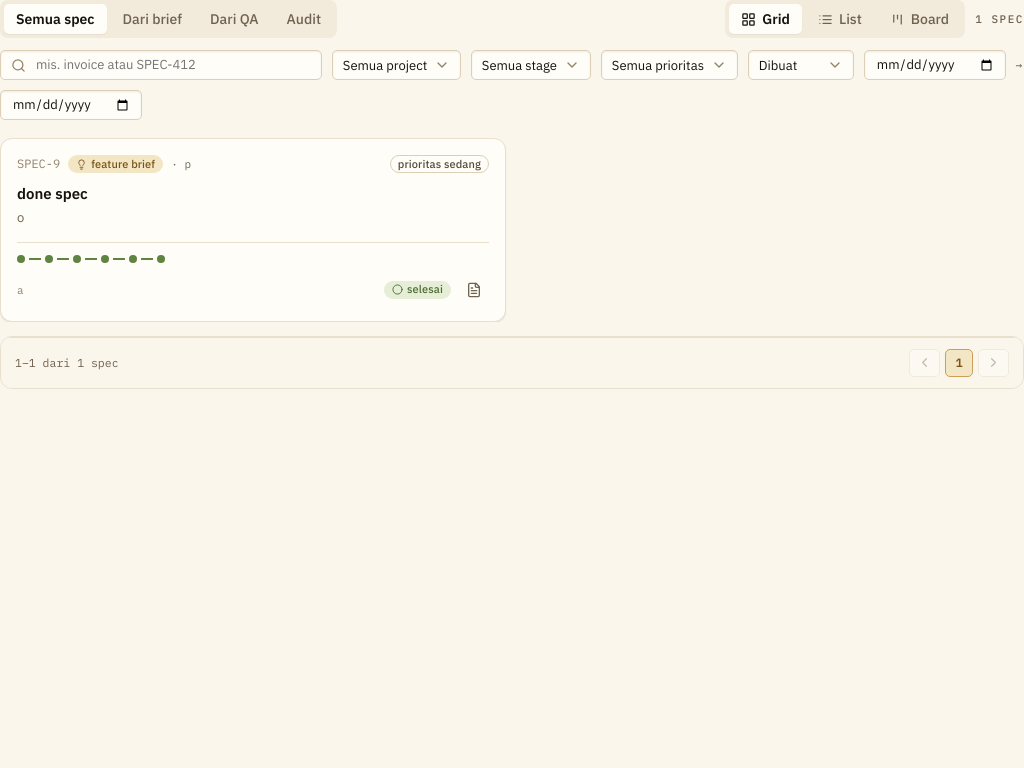
it: Integrasi rebase/merge (SPEC-175) › SpecDetail spec done menampilkan aksi Rebase / Merge
Click the button "done spec".
click(52, 194)  # box [17,184,88,203]
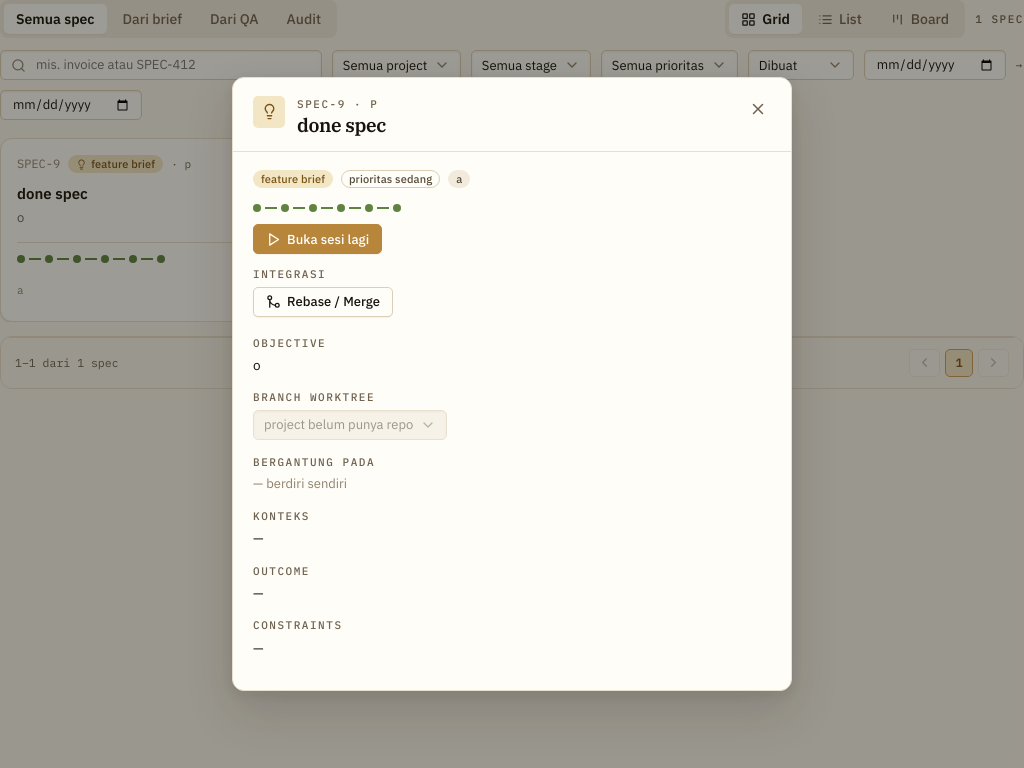
Click the button "Rebase / Merge".
click(323, 302)  # box [253,287,393,317]
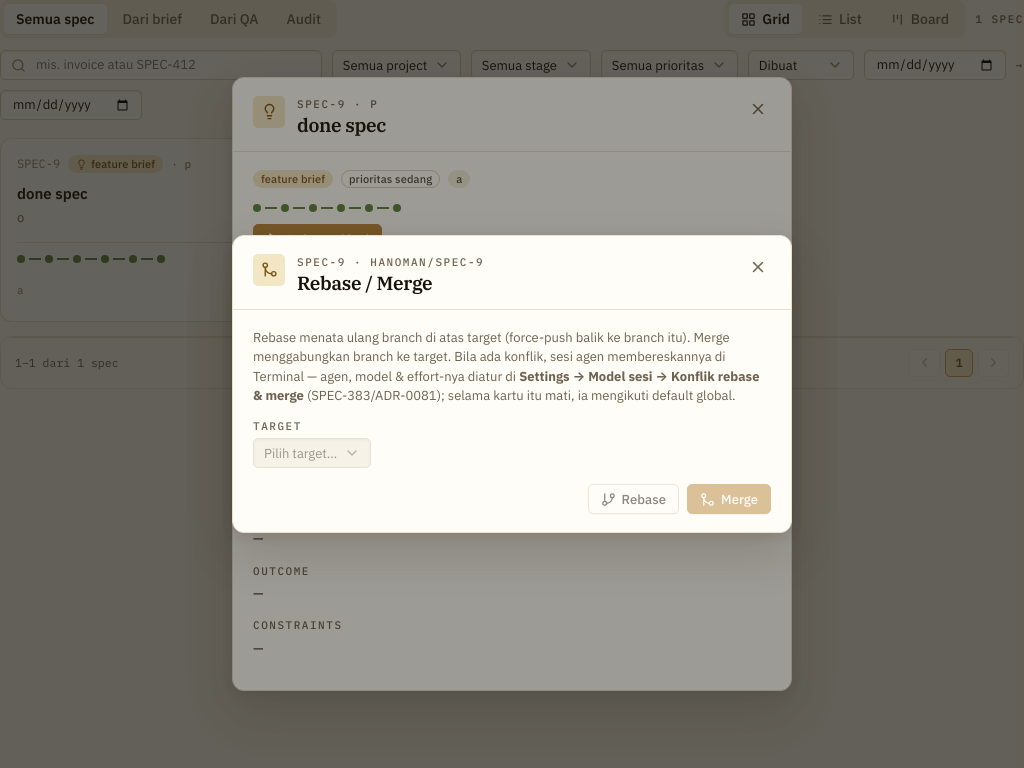
Expected: the dropdown named "Target" is shown, [254,439,370,467]
